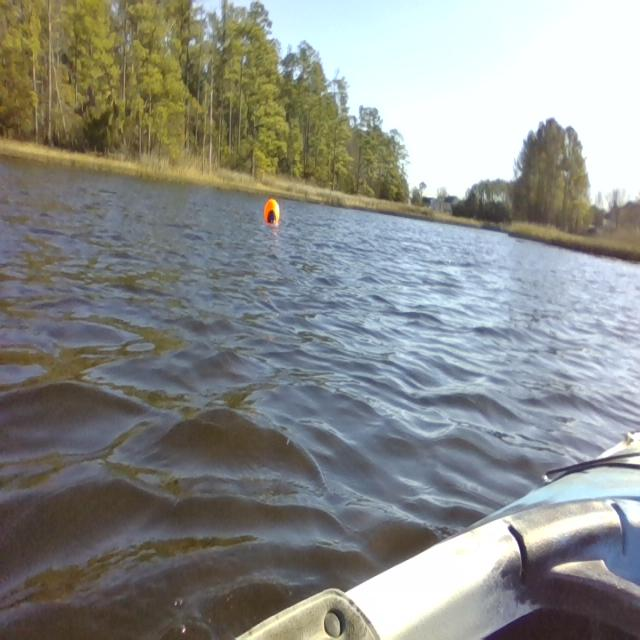Buoy: (261, 197, 283, 230)
